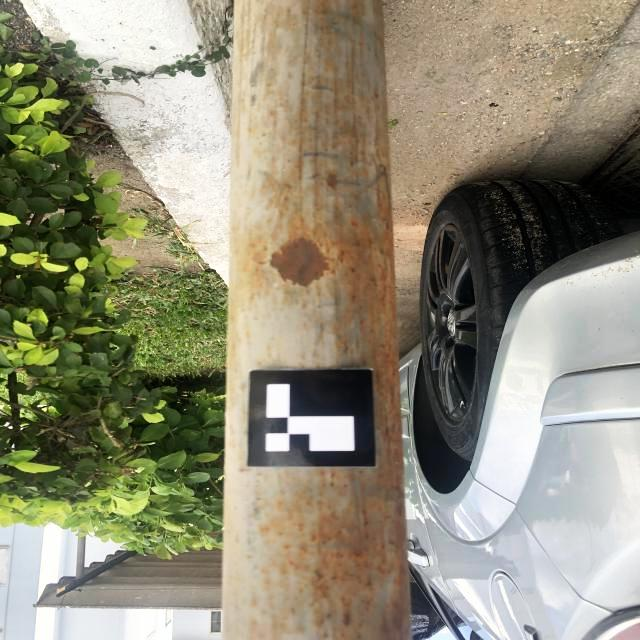Corrosion: (308, 177, 412, 640), (258, 139, 330, 243), (259, 485, 314, 590), (267, 231, 336, 289), (230, 230, 270, 324), (308, 69, 355, 113), (322, 122, 367, 167), (372, 101, 390, 175), (261, 600, 291, 640), (318, 13, 341, 47), (314, 0, 334, 25), (329, 469, 347, 496), (345, 166, 370, 184), (248, 617, 264, 640), (332, 189, 342, 222), (315, 106, 331, 125), (298, 100, 310, 123), (325, 173, 338, 191), (347, 2, 364, 15), (56, 584, 68, 594), (373, 87, 379, 99), (269, 111, 276, 117), (359, 41, 364, 49), (240, 468, 251, 471), (358, 470, 363, 474), (57, 608, 60, 610)
